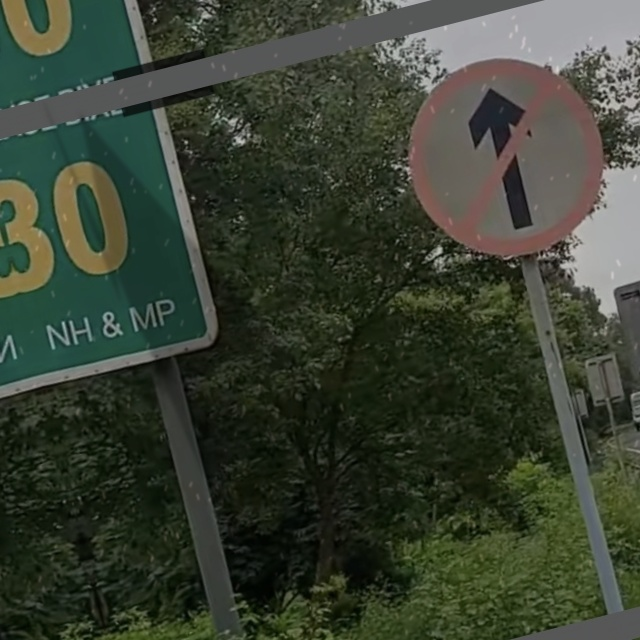No_Entry: (389, 35, 625, 272)
